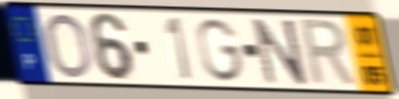1: (164, 15, 195, 83)
6: (87, 10, 137, 83)
G: (195, 16, 246, 84)
N: (250, 17, 311, 87)
O: (44, 11, 95, 81)
R: (298, 17, 361, 90)
